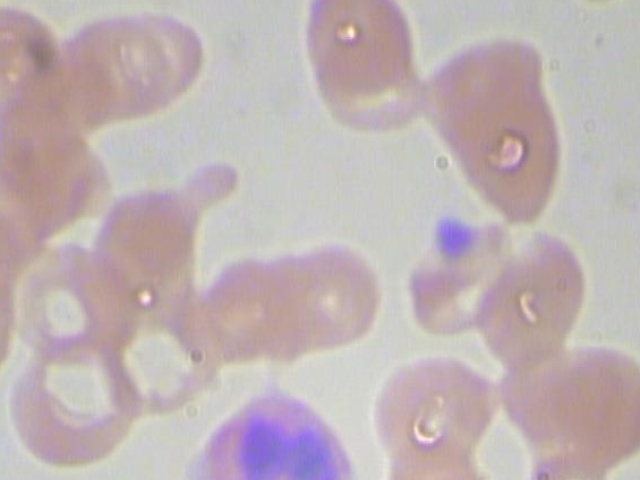Platelets: (424, 208, 476, 256)
RBC: (414, 24, 579, 228), (0, 325, 148, 471), (6, 233, 138, 366), (94, 288, 225, 422), (260, 229, 387, 364), (465, 231, 592, 365), (372, 339, 499, 473), (540, 336, 640, 471), (294, 0, 420, 99)
WBC: (179, 386, 374, 480)
